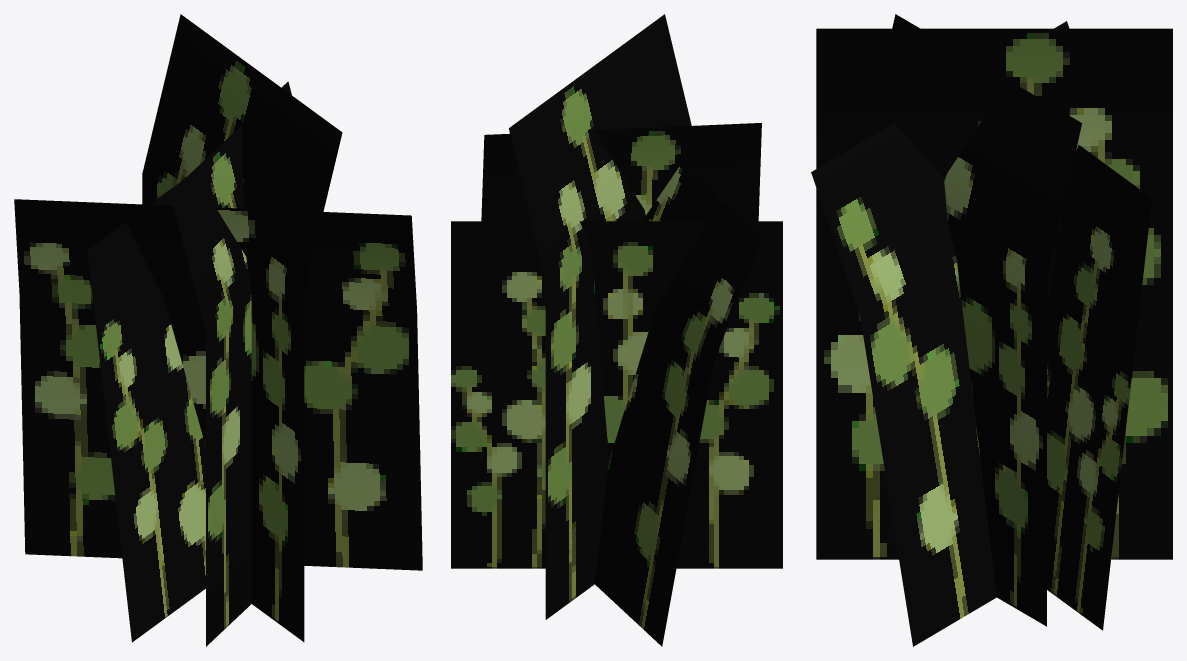
The model's file is Mini_Plant_2.gltf.
The picture shows the model from 3 angles, left to right: view 1: azimuth 30°, elevation 25°; view 2: azimuth 150°, elevation 25°; view 3: azimuth 270°, elevation 25°; orthographic projection. The views are drawn at different scales.
Visible parts, largest first — view 1: Mini_Plant_2; view 2: Mini_Plant_2; view 3: Mini_Plant_2.
Part boxes in pixels (x1,y1,x2,y2): Mini_Plant_2: [14, 14, 422, 646]; Mini_Plant_2: [451, 14, 782, 646]; Mini_Plant_2: [811, 14, 1172, 646].
Bounding box in the file's own units: 8.15 × 11.54 × 6.84.
1 material, 1 textured.
